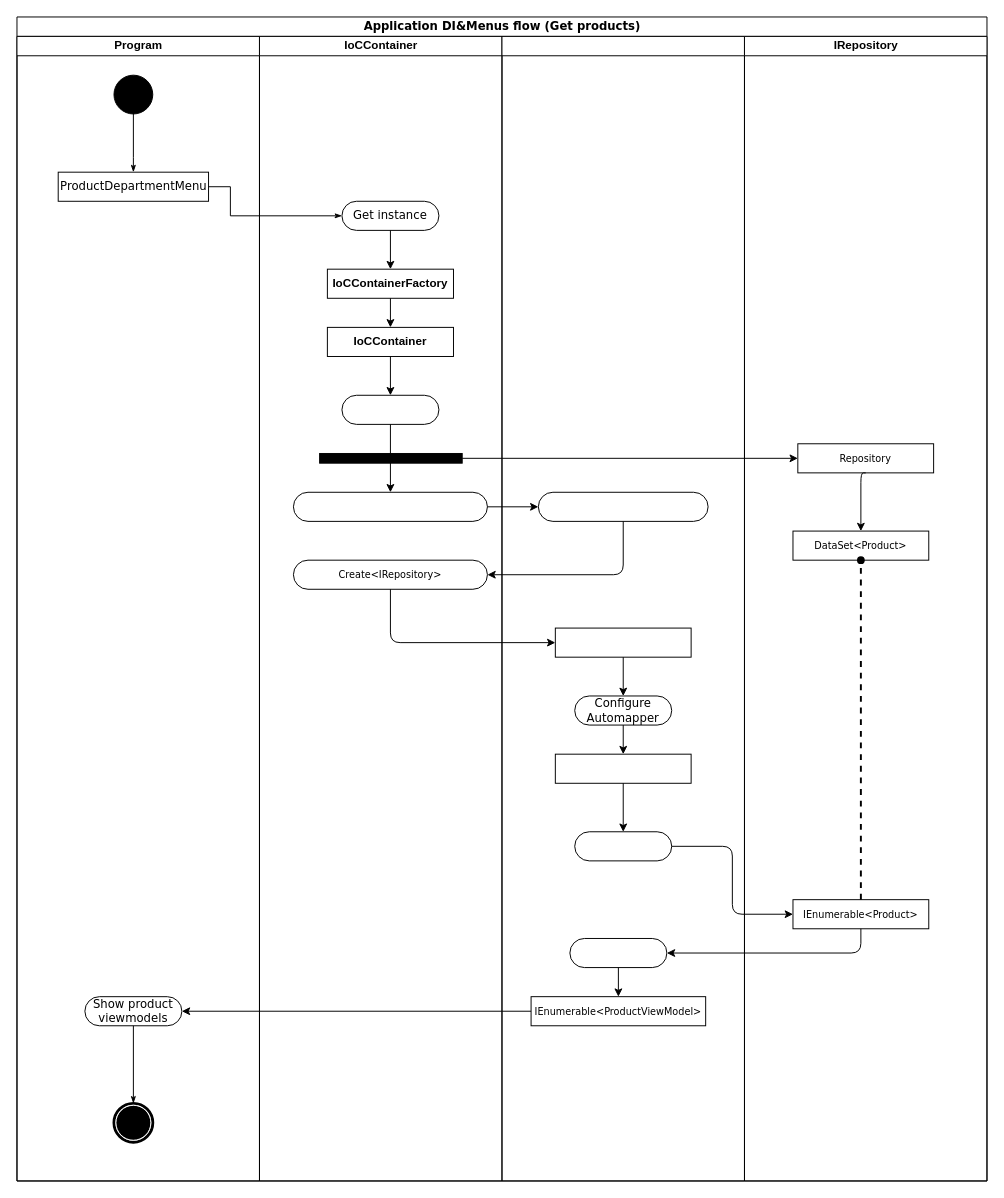
Some shapes in this 1004 by 1198 pixel diagram are drawn without their labels. Each missing label, with the box of its shape:
Configure DI: (341, 394, 439, 424)
Create<IProductDepartmentService>: (292, 491, 487, 521)
Get products: (574, 831, 672, 861)
Init ProductDepartmentService: (537, 491, 708, 521)
IProductDepartmentService: (501, 35, 744, 1181)
Map product models: (569, 938, 667, 968)
MapperConfiguration: (554, 753, 691, 783)
ProductDepartmentService: (554, 627, 691, 657)
